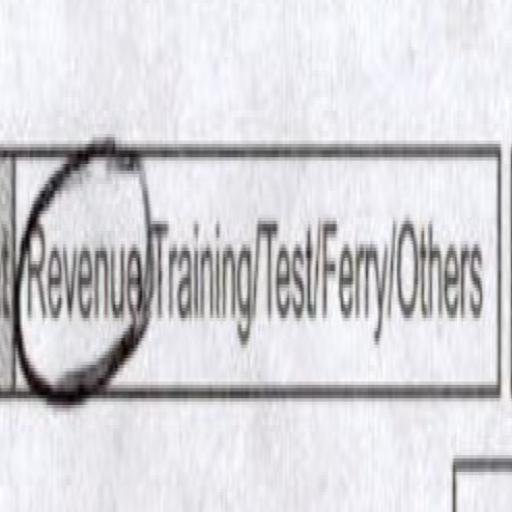check: (10, 98, 152, 438)
